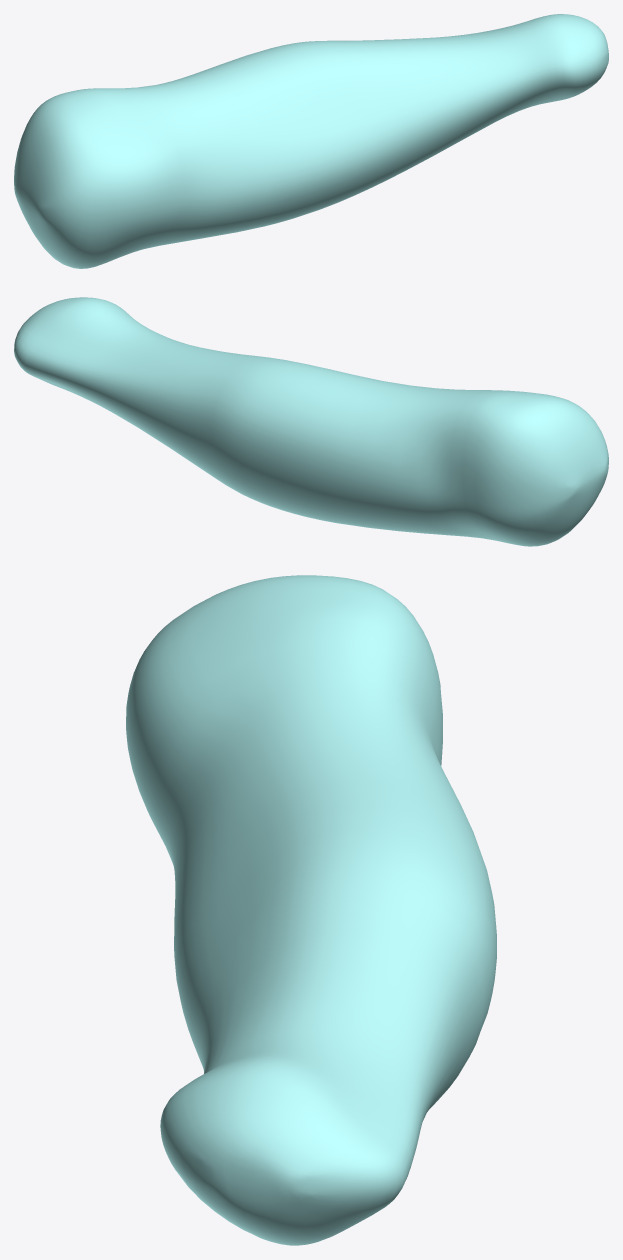
File: shin_visual.dae
3 views of the same model, one above another, from view 1: azimuth 30°, elevation 25°; view 2: azimuth 150°, elevation 25°; view 3: azimuth 270°, elevation 25° (orthographic). The views are drawn at different scales.
Visible parts, largest first — view 1: mesh_1_scenario_ZFS_Right_ShinTest-2; view 2: mesh_1_scenario_ZFS_Right_ShinTest-2; view 3: mesh_1_scenario_ZFS_Right_ShinTest-2.
Part boxes in pixels (x1=…): mesh_1_scenario_ZFS_Right_ShinTest-2: x1=14, y1=14, x2=608, y2=268; mesh_1_scenario_ZFS_Right_ShinTest-2: x1=14, y1=297, x2=608, y2=546; mesh_1_scenario_ZFS_Right_ShinTest-2: x1=126, y1=575, x2=496, y2=1245.
Size of the model in its own units: 0.4676 by 0.1336 by 0.124.
